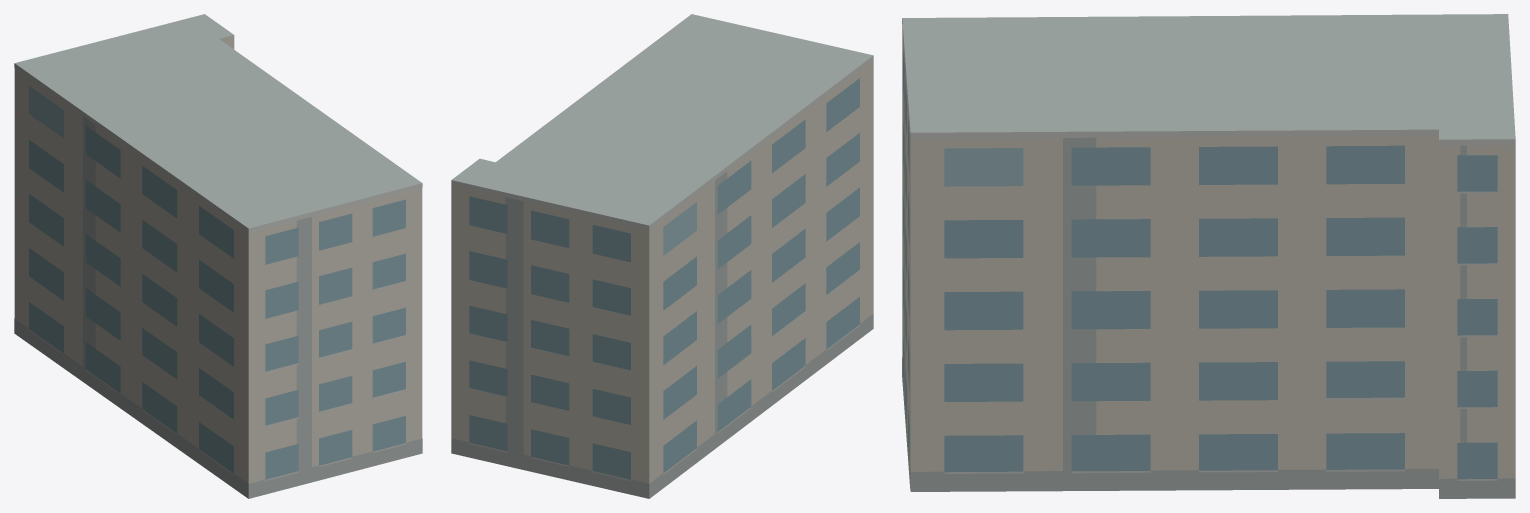
File: survey-upis-32638099.glb
3 views of the same model, side by side, from view 1: azimuth 30°, elevation 25°; view 2: azimuth 150°, elevation 25°; view 3: azimuth 270°, elevation 25° (orthographic). The views are drawn at different scales.
Visible parts, largest first — view 1: survey-upis-32638099.tmp; view 2: survey-upis-32638099.tmp; view 3: survey-upis-32638099.tmp.
Boxes of the visible parts, x1,y1,x2,y2 form: survey-upis-32638099.tmp: (14, 14, 422, 498); survey-upis-32638099.tmp: (451, 14, 873, 498); survey-upis-32638099.tmp: (902, 14, 1515, 498).
Size of the model in its own units: 10.74 by 14.3 by 22.14.
